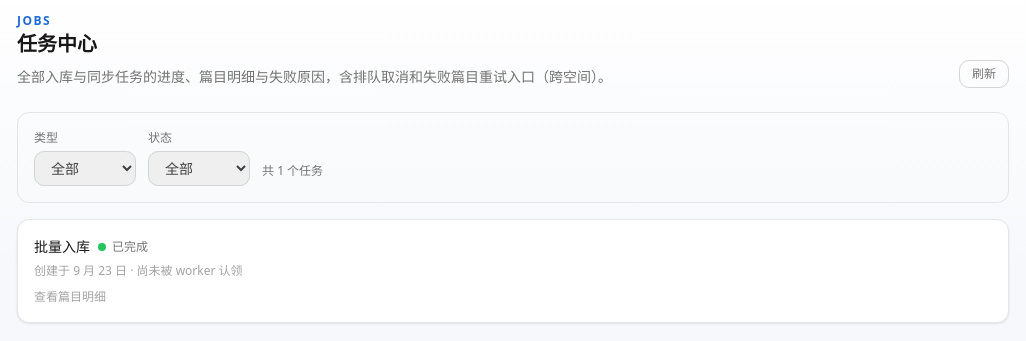
R0.4.3 过滤与分页 › 状态过滤下推服务端；筛选空结果 ≠ 列表空（R0.1.4 口径）
Expected: the text "共 1 个任务" is shown, [262,162,323,186]
Select "排队中" in the dropdown named "状态筛选" at [199, 168], box [148,151,250,186]
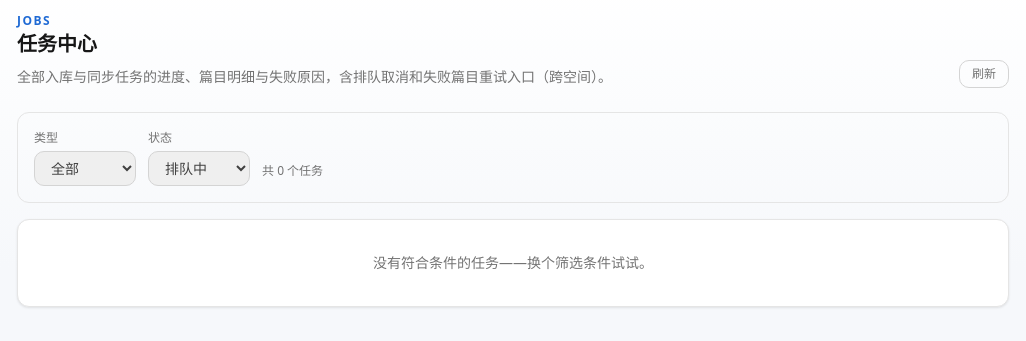
Now the text "没有符合条件的任务——换个筛选条件试试。" is shown, box [17,219,1009,307]
Now the text "共 0 个任务" is shown, box [262,162,323,186]
